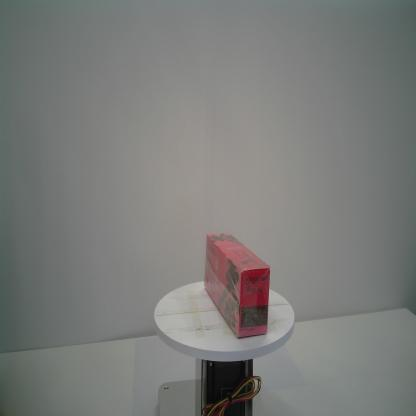Instant Drink: (204, 232, 270, 337)
